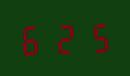five: (81, 19, 111, 54)
six: (18, 21, 48, 56)
two: (50, 20, 80, 55)
